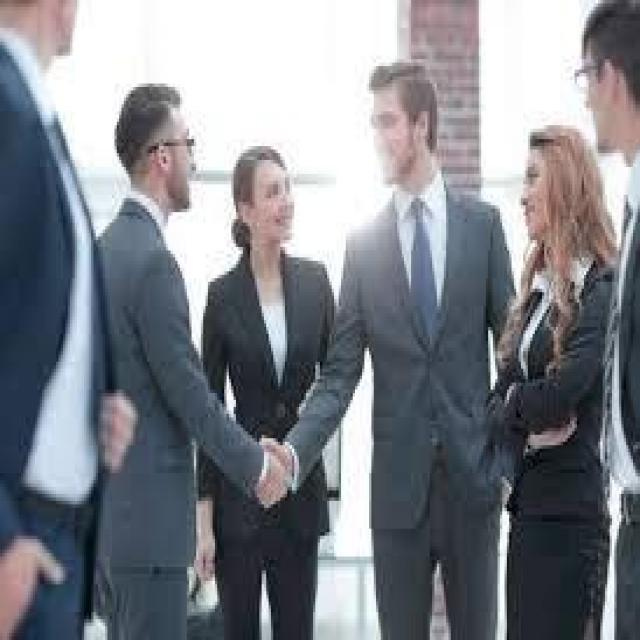person: (285, 21, 521, 636), (84, 62, 294, 630), (0, 0, 128, 595), (201, 118, 332, 637), (495, 94, 614, 636), (560, 7, 638, 605)
